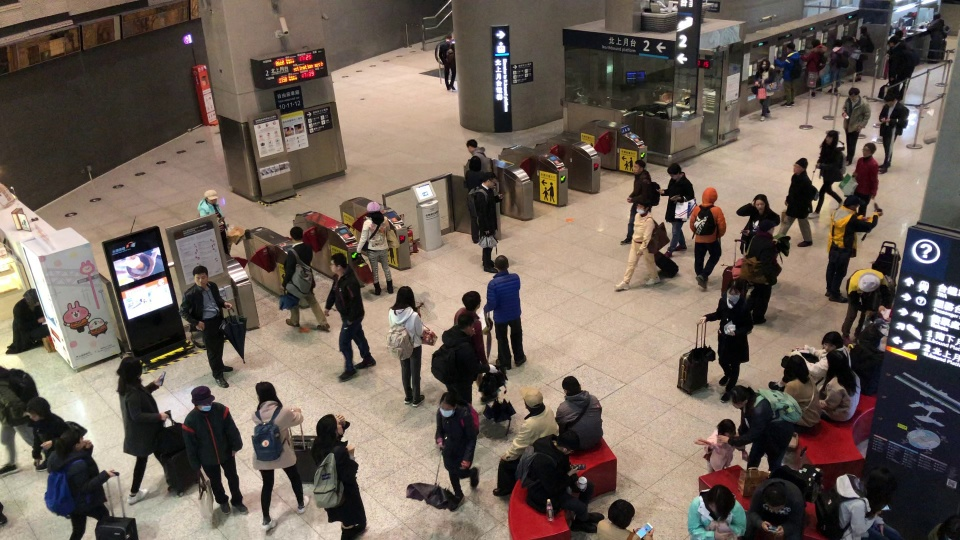person_head: (867, 467, 897, 500), (607, 498, 635, 529), (315, 413, 344, 438), (53, 430, 84, 452), (189, 385, 216, 410), (707, 485, 730, 514), (785, 354, 810, 380), (25, 396, 50, 421), (555, 430, 580, 455), (764, 483, 785, 512), (520, 385, 544, 410), (826, 350, 848, 376), (253, 380, 277, 402), (394, 284, 416, 308), (729, 384, 751, 408), (119, 355, 144, 375), (821, 330, 844, 351), (438, 392, 457, 417), (858, 272, 881, 292), (560, 375, 582, 395), (939, 518, 959, 540), (461, 290, 481, 311), (456, 311, 475, 333), (329, 252, 347, 274), (843, 193, 864, 210), (716, 418, 737, 435), (191, 265, 208, 285), (726, 279, 742, 299), (701, 186, 718, 203), (752, 194, 769, 211), (467, 154, 483, 172), (666, 161, 682, 179), (759, 219, 778, 233), (792, 157, 808, 173), (482, 171, 497, 188), (494, 254, 509, 271), (24, 288, 39, 304), (203, 188, 218, 204), (631, 158, 646, 174), (635, 198, 650, 214), (289, 226, 303, 243), (366, 201, 381, 216), (825, 130, 839, 145), (862, 142, 876, 157), (847, 87, 860, 101), (883, 92, 896, 105), (466, 138, 478, 151), (759, 58, 769, 69), (785, 42, 795, 53), (810, 38, 821, 48), (859, 24, 868, 35), (888, 36, 899, 45), (933, 12, 941, 20), (445, 32, 452, 41), (833, 39, 842, 46)
person_vbox: (514, 429, 605, 534), (250, 380, 311, 529), (180, 384, 248, 517), (42, 430, 115, 540), (115, 355, 168, 504), (491, 384, 559, 497), (310, 412, 366, 540), (177, 265, 234, 390), (323, 251, 377, 382), (823, 194, 884, 302), (727, 384, 803, 470), (814, 465, 901, 540), (698, 278, 750, 402), (429, 311, 498, 404), (746, 463, 824, 540), (278, 225, 331, 331), (434, 391, 480, 510), (0, 366, 48, 476), (483, 254, 527, 369), (384, 284, 425, 407), (768, 330, 852, 389), (613, 197, 662, 291), (744, 218, 782, 325), (23, 396, 87, 457), (689, 186, 727, 288), (777, 157, 819, 248), (467, 171, 504, 274), (554, 375, 604, 451), (355, 200, 394, 296), (618, 158, 660, 246), (658, 161, 695, 259), (807, 129, 847, 219), (782, 354, 824, 436), (687, 483, 746, 540), (840, 267, 888, 337), (817, 351, 860, 422), (5, 288, 49, 355), (736, 193, 781, 256), (694, 419, 748, 471), (453, 290, 489, 366), (878, 92, 910, 173), (596, 497, 655, 539), (841, 87, 871, 166), (196, 188, 230, 256), (851, 141, 879, 217), (752, 57, 783, 122), (888, 35, 918, 102), (773, 42, 802, 108), (799, 37, 828, 99), (464, 155, 483, 242), (848, 24, 874, 82), (826, 39, 849, 94), (438, 30, 456, 92), (465, 137, 494, 172), (925, 12, 950, 41), (927, 518, 958, 540)
